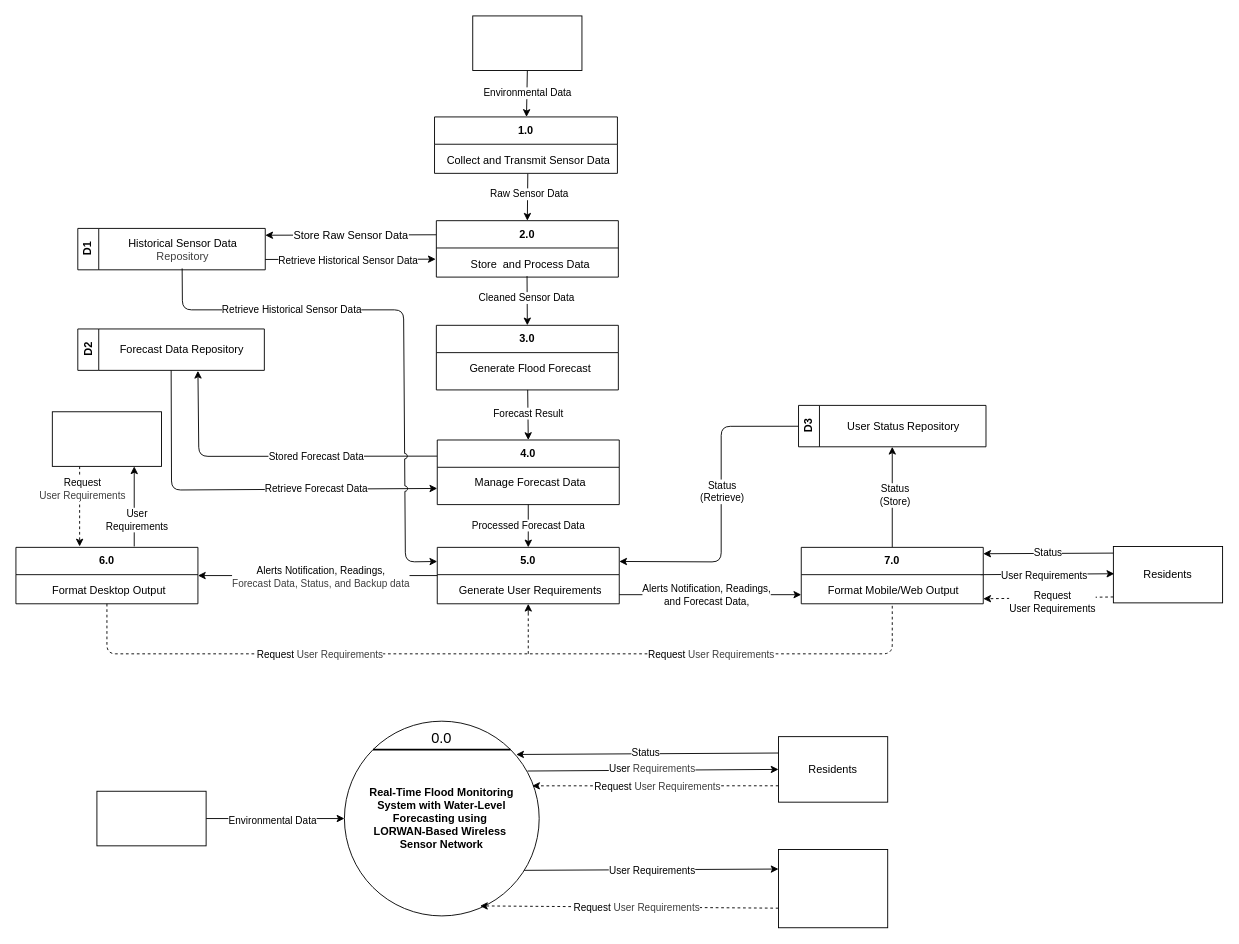
This 1239x944 diagram has some shape labels left out. Here are the shapes that lost their labels. From the top down, the centre of each, then its label:
the point at 527,43: Sensors
the point at 106,438: Barangay Official/BDRRMC Staff
the point at 151,818: Sensor
the point at 833,888: Barangay Official (BDRRMC Staff)
